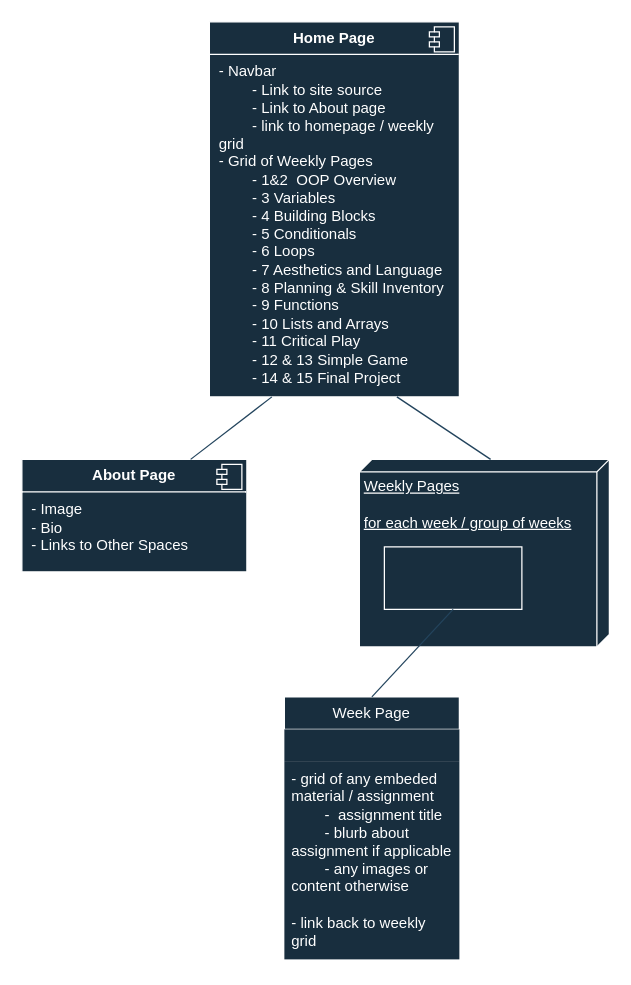
This 631x985 diagram has some shape labels left out. The centre of each missing label's shape, as x and y in pixels:
- Week # and Subject: the point at 371,745
Link to Week Page: the point at 452,577
